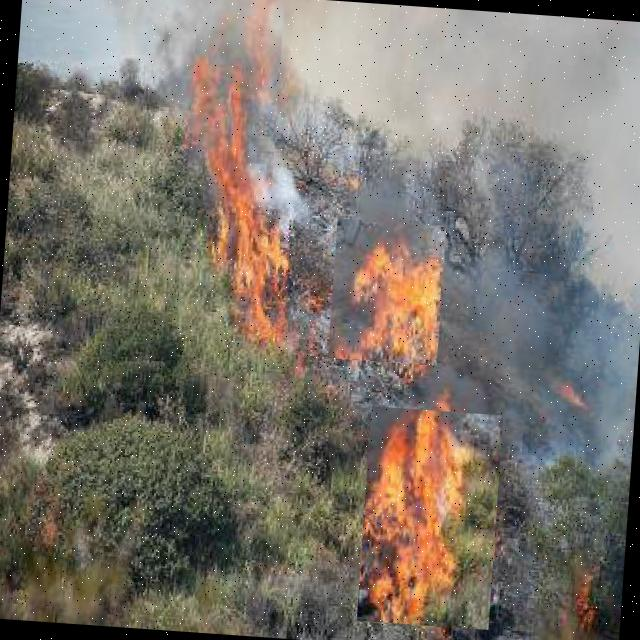fire: (175, 0, 284, 332), (356, 406, 503, 630), (327, 218, 446, 365)
